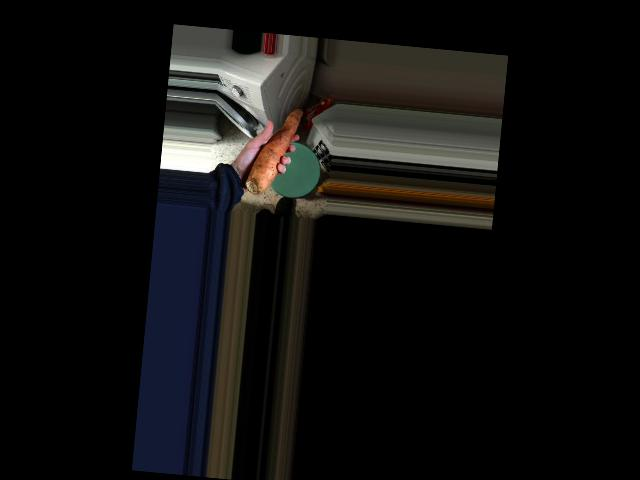sweet_potato: (241, 97, 307, 199)
